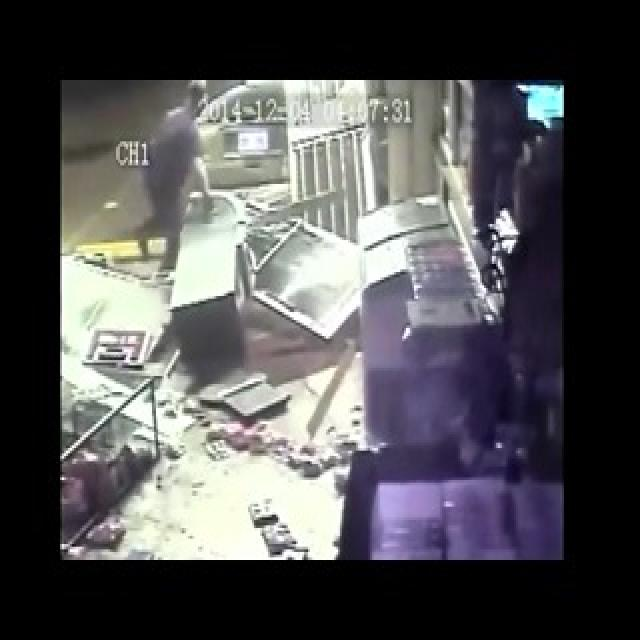thief: (172, 68, 212, 144)
